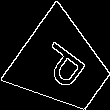P_SE: (32, 37, 93, 96)
